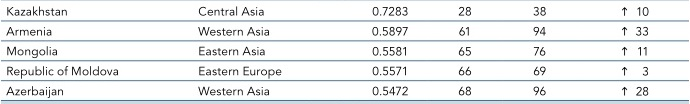column: (5, 1, 120, 104), (195, 1, 283, 104), (371, 1, 409, 104), (457, 1, 473, 104), (531, 1, 547, 104), (634, 1, 650, 104), (620, 1, 627, 104)
row: (1, 66, 689, 79), (1, 85, 689, 98), (1, 6, 690, 17), (1, 46, 689, 57), (1, 26, 690, 36)
